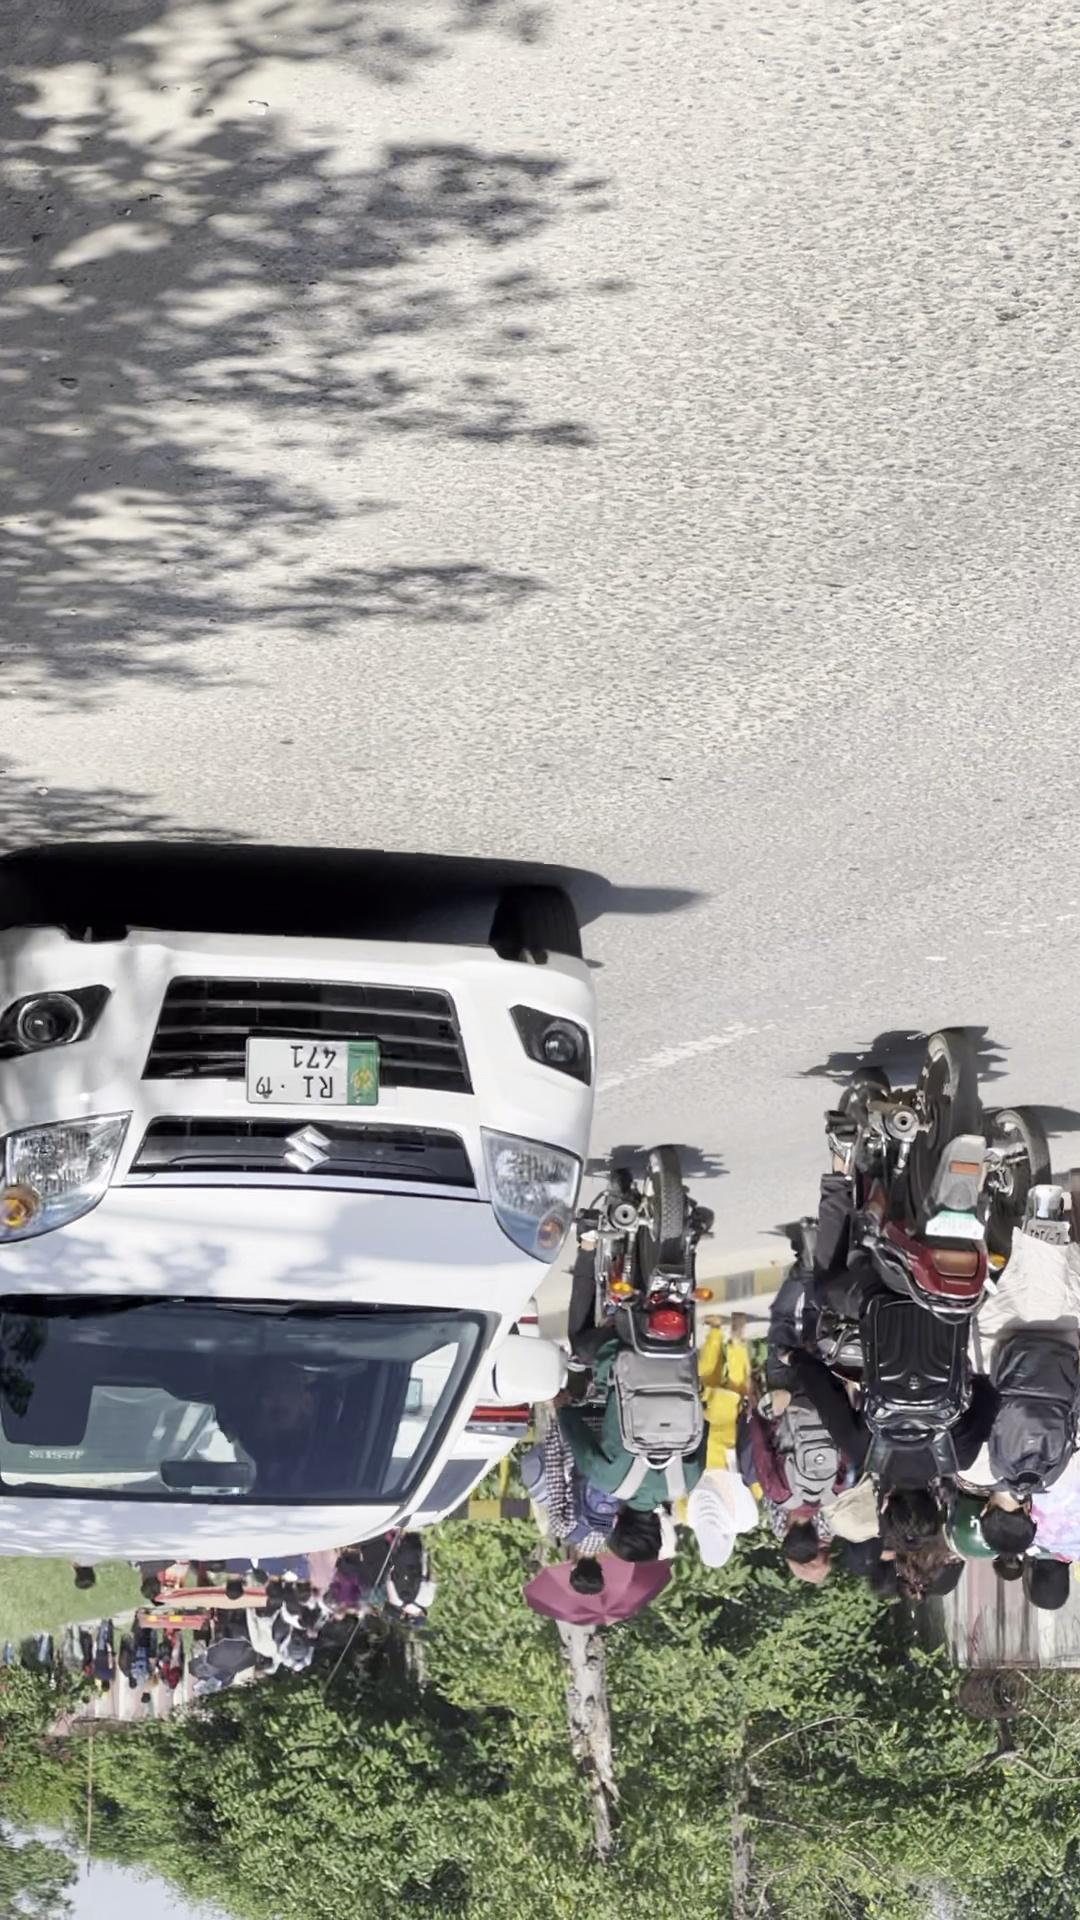windshield: (571, 410, 1080, 645)
